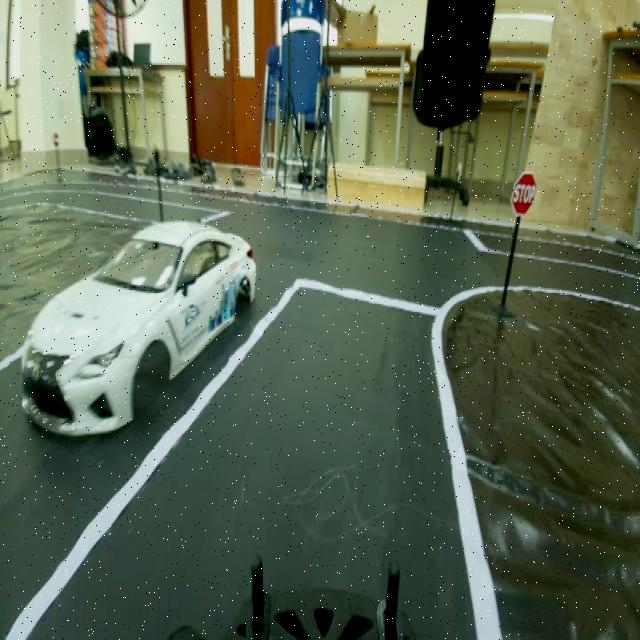car: (14, 215, 264, 418)
stop: (501, 163, 542, 222)
